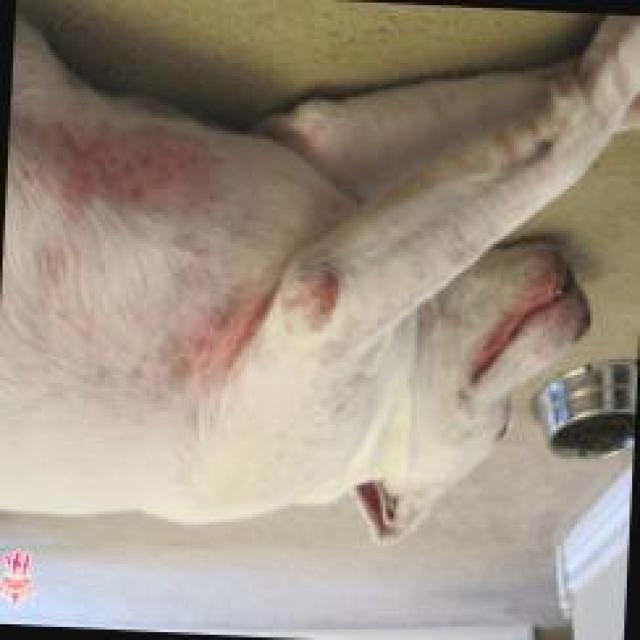allergic dermatitis: (15, 118, 223, 218), (162, 299, 268, 407), (302, 265, 334, 313)
